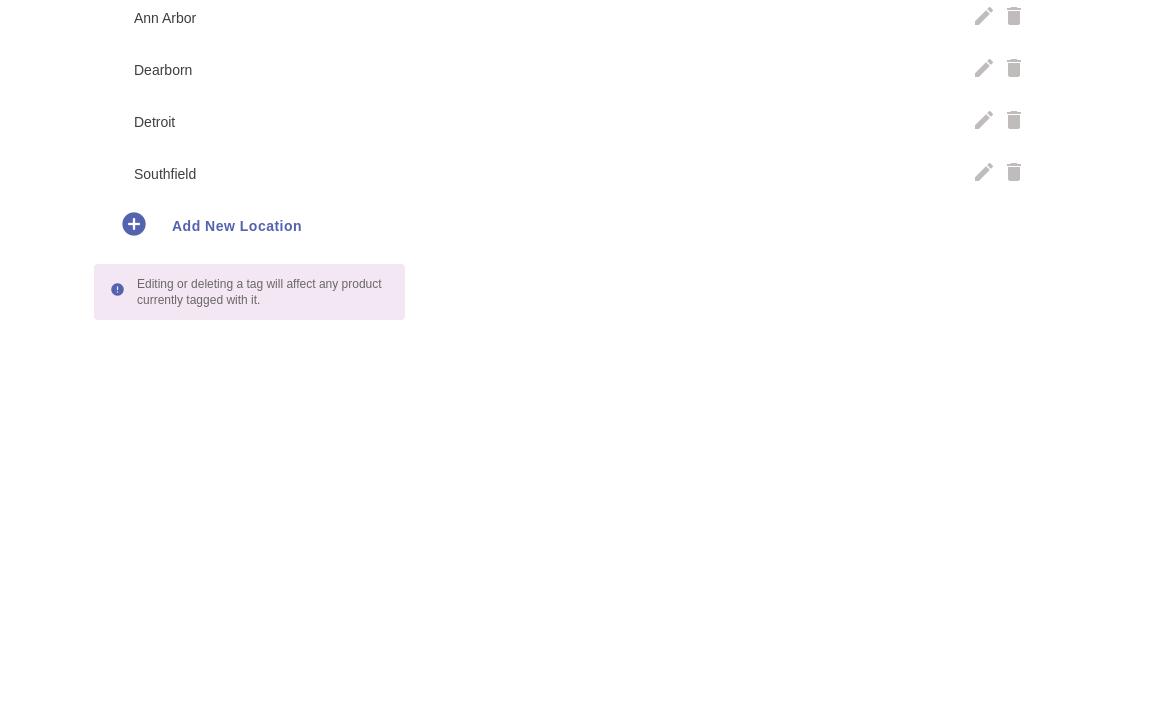
Test: My Tags Form › Delete a tag › delete a location tag › should remove location tag when clicking delete button in confirmation modal
Click the 1st button with test id "deleteIcon__location" at coordinates (1014, 18), box 1002,4 -> 1026,32
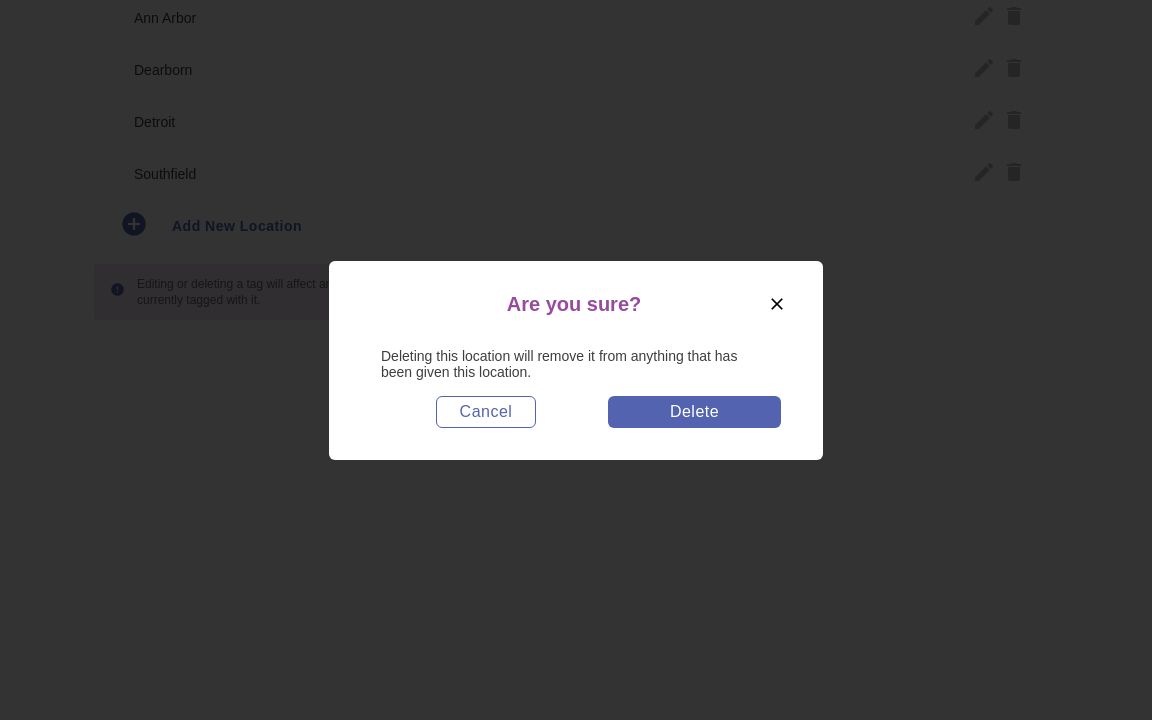
expect the text "Deleting this location will remove it from anything that has been given this location." is shown: met, box 381,348 -> 771,380
Click the button "Delete" at coordinates (694, 412), box 608,396 -> 781,428
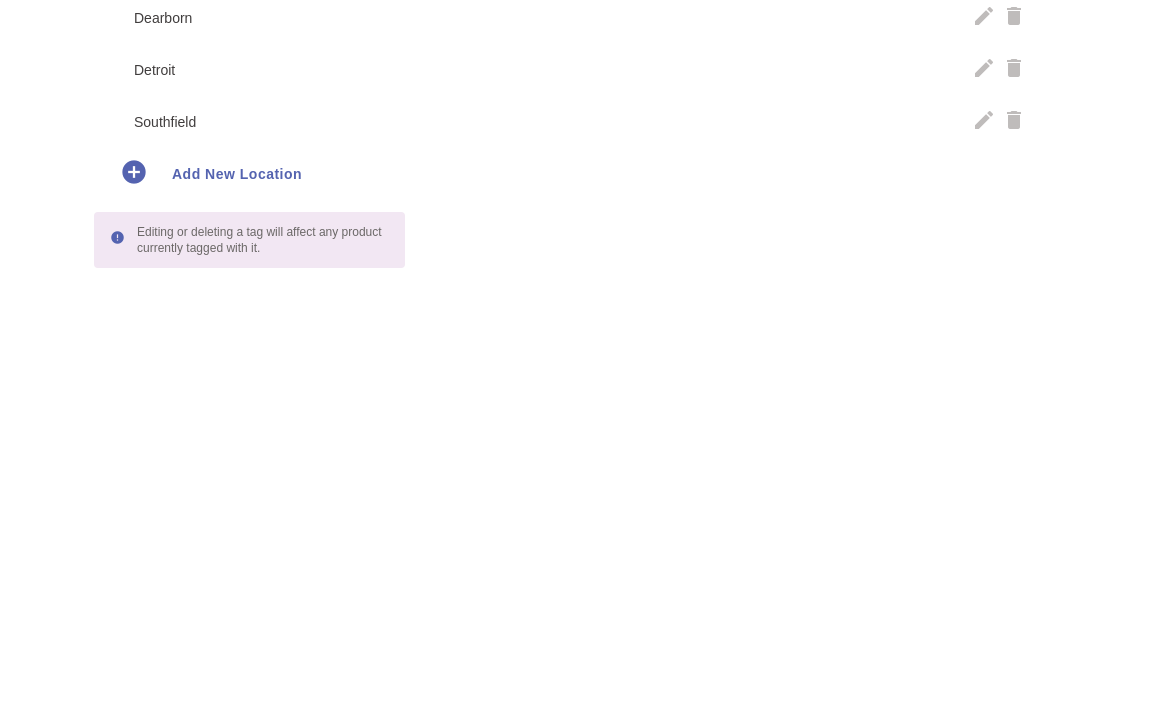
expect the text "Ann Arbor" is gone: met
